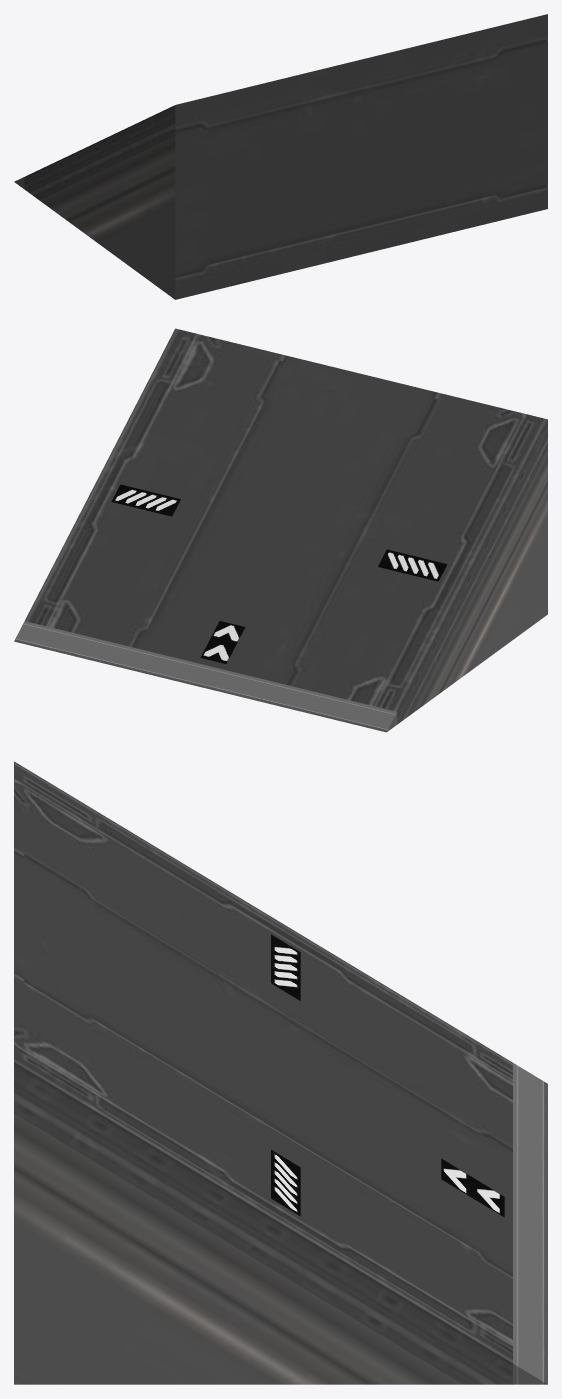
Rendered from sf_ramp_short.glb.
3 renders of one model, top to bottom at view 1: azimuth 30°, elevation 25°; view 2: azimuth 150°, elevation 25°; view 3: azimuth 270°, elevation 25°, orthographic. The views are drawn at different scales.
Visible parts, largest first — view 1: Platform_Ramp_2Short; view 2: Platform_Ramp_2Short; view 3: Platform_Ramp_2Short.
Boxes of the visible parts, x1=… form: Platform_Ramp_2Short: x1=14, y1=14, x2=547, y2=299; Platform_Ramp_2Short: x1=14, y1=328, x2=547, y2=732; Platform_Ramp_2Short: x1=14, y1=761, x2=547, y2=1384.
Size of the model in its own units: 2 by 1 by 1.5.
Materials: 3 (3 with a texture image).
